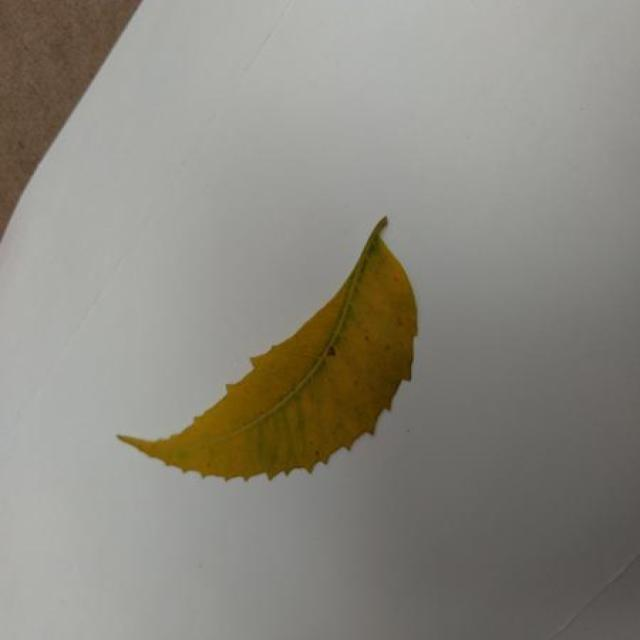neem: (118, 218, 417, 479)
